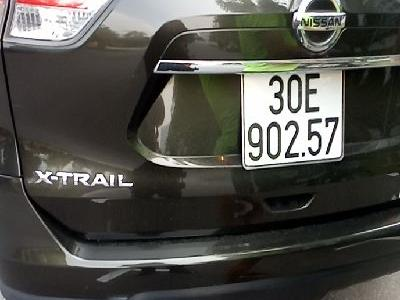car: (238, 69, 350, 169)
